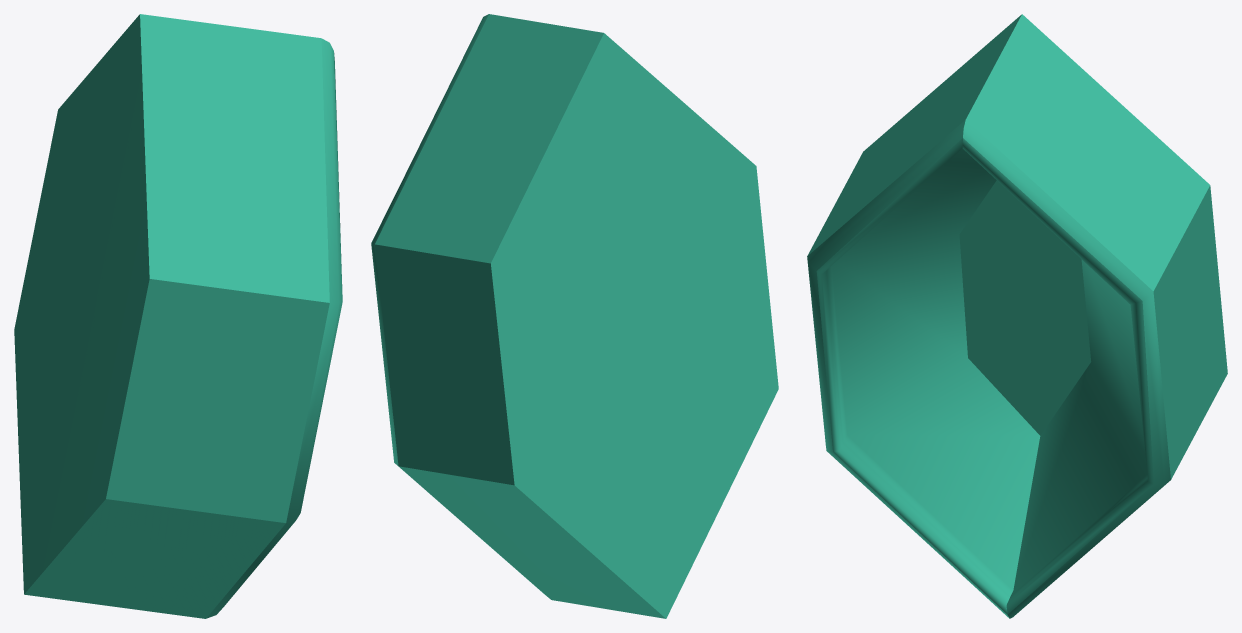
File: TR5_8shapes_Hex_Classic_Metal.001 3.glb
3 renders of one model, left to right at view 1: azimuth 30°, elevation 25°; view 2: azimuth 150°, elevation 25°; view 3: azimuth 270°, elevation 25°, orthographic. The views are drawn at different scales.
Parts seen in each view (by area): view 1: TR5_8shapes_Hex_Classic_Metal.001; view 2: TR5_8shapes_Hex_Classic_Metal.001; view 3: TR5_8shapes_Hex_Classic_Metal.001.
Part boxes in pixels (x1,y1,x2,y2): TR5_8shapes_Hex_Classic_Metal.001: [14, 14, 342, 618]; TR5_8shapes_Hex_Classic_Metal.001: [371, 14, 778, 618]; TR5_8shapes_Hex_Classic_Metal.001: [807, 14, 1227, 618].
Bounding box in the file's own units: 0.3625 × 0.7355 × 0.4871.
